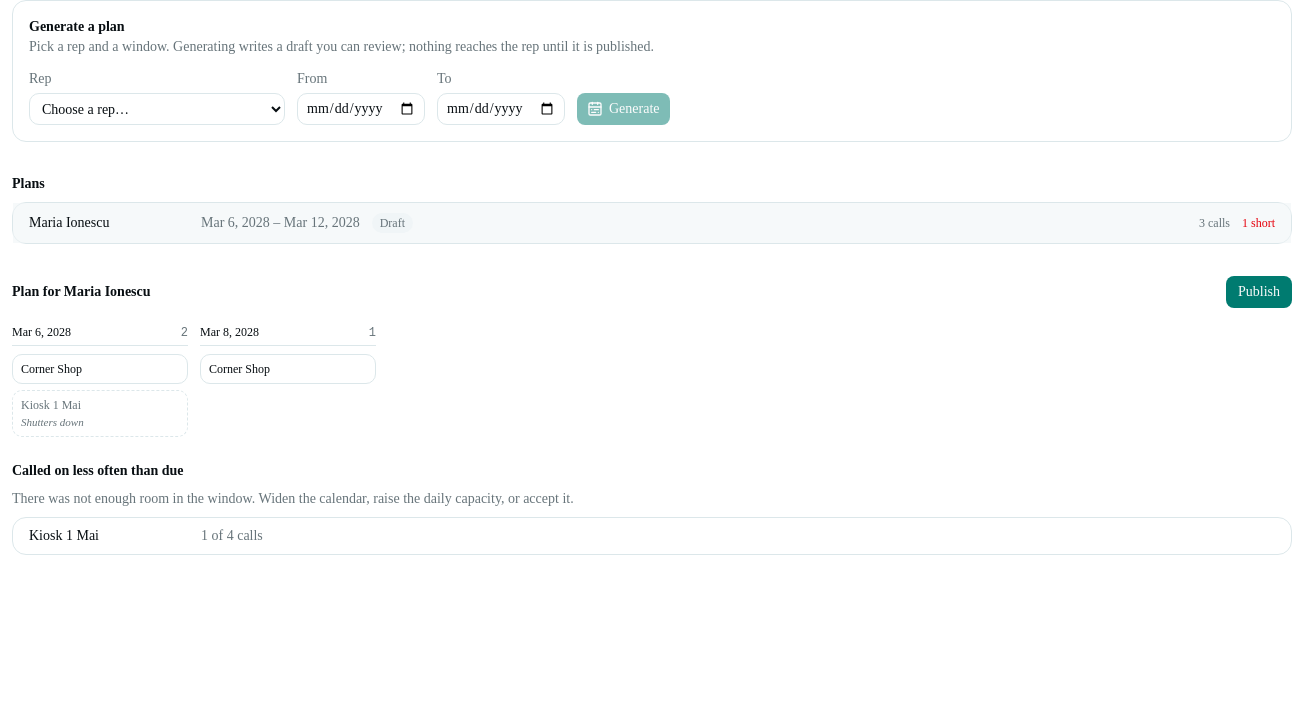
Test: <JourneyPlans> › offers Publish on a draft and not on a published plan
Click the button "Publish": (1259, 292) [1226,276,1292,308]
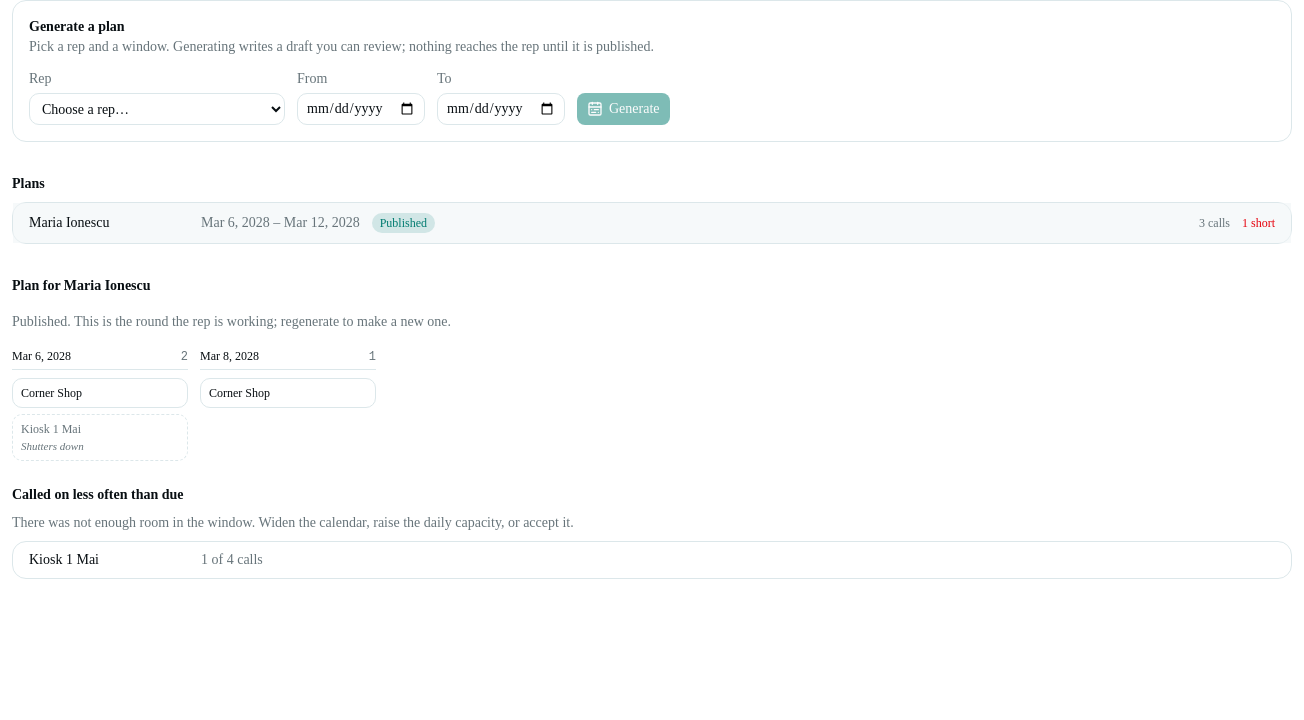
Result: the text "This is the round the rep is working" is shown at [12,314,451,329]
